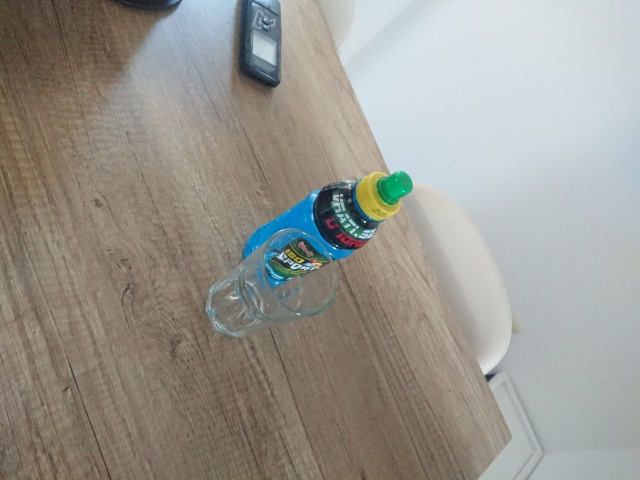Vindi Iso Sport Forest Strawberries 500mL: (240, 169, 414, 291)
